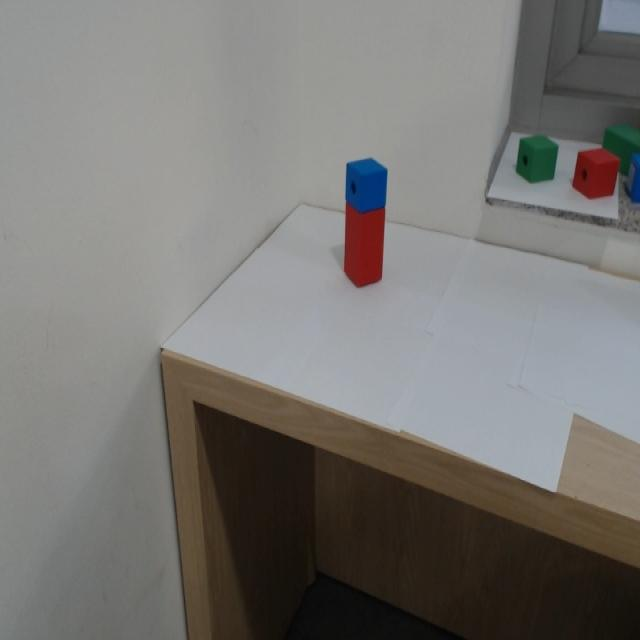cube: (331, 130, 407, 214)
